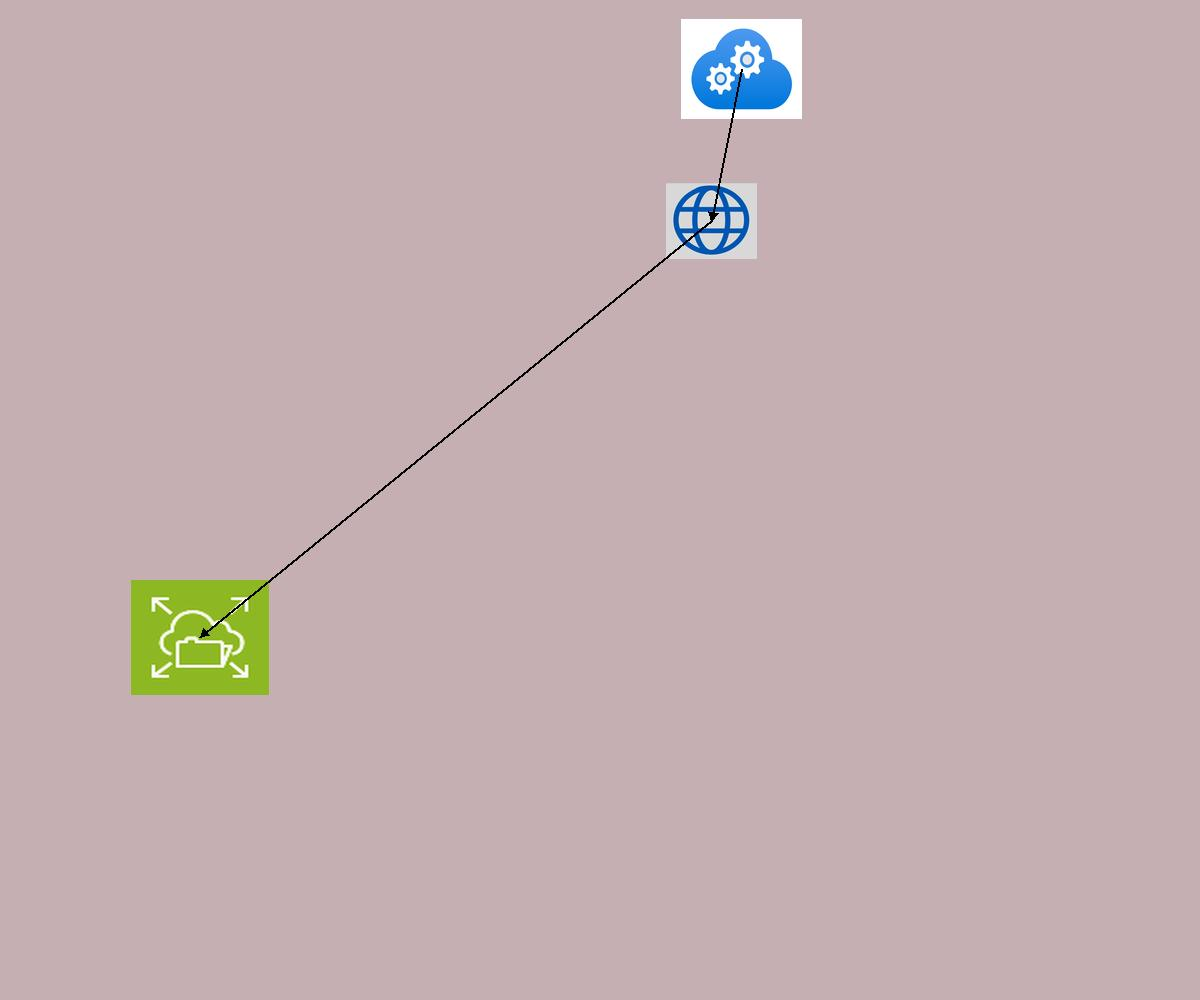AWS-EFS: (131, 580, 269, 695)
Azure_cloud_services: (681, 19, 802, 119)
Azure_http: (666, 183, 757, 259)
